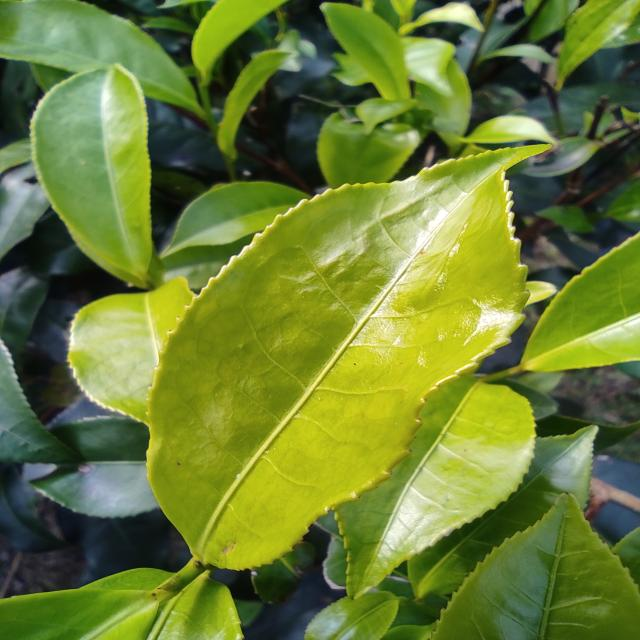Category B 2-4 days: (128, 126, 562, 600)
